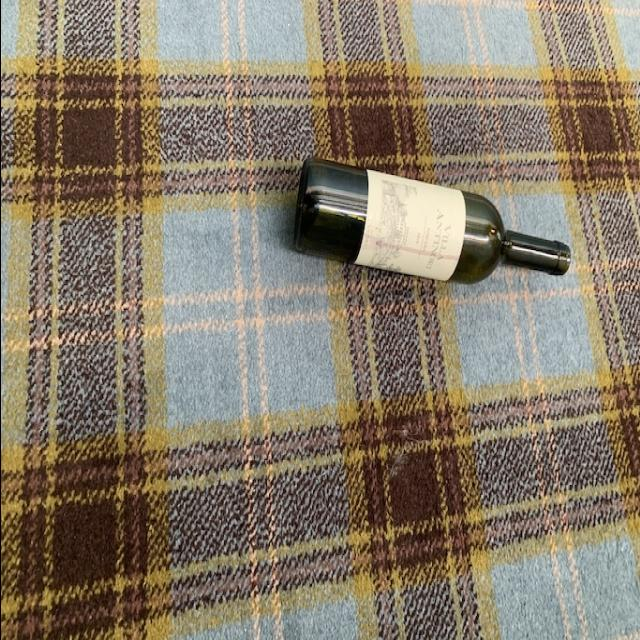litter: (287, 151, 574, 291)
